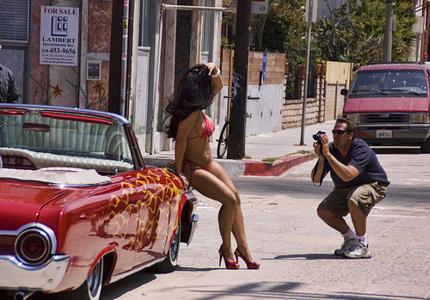person: (311, 119, 389, 260)
